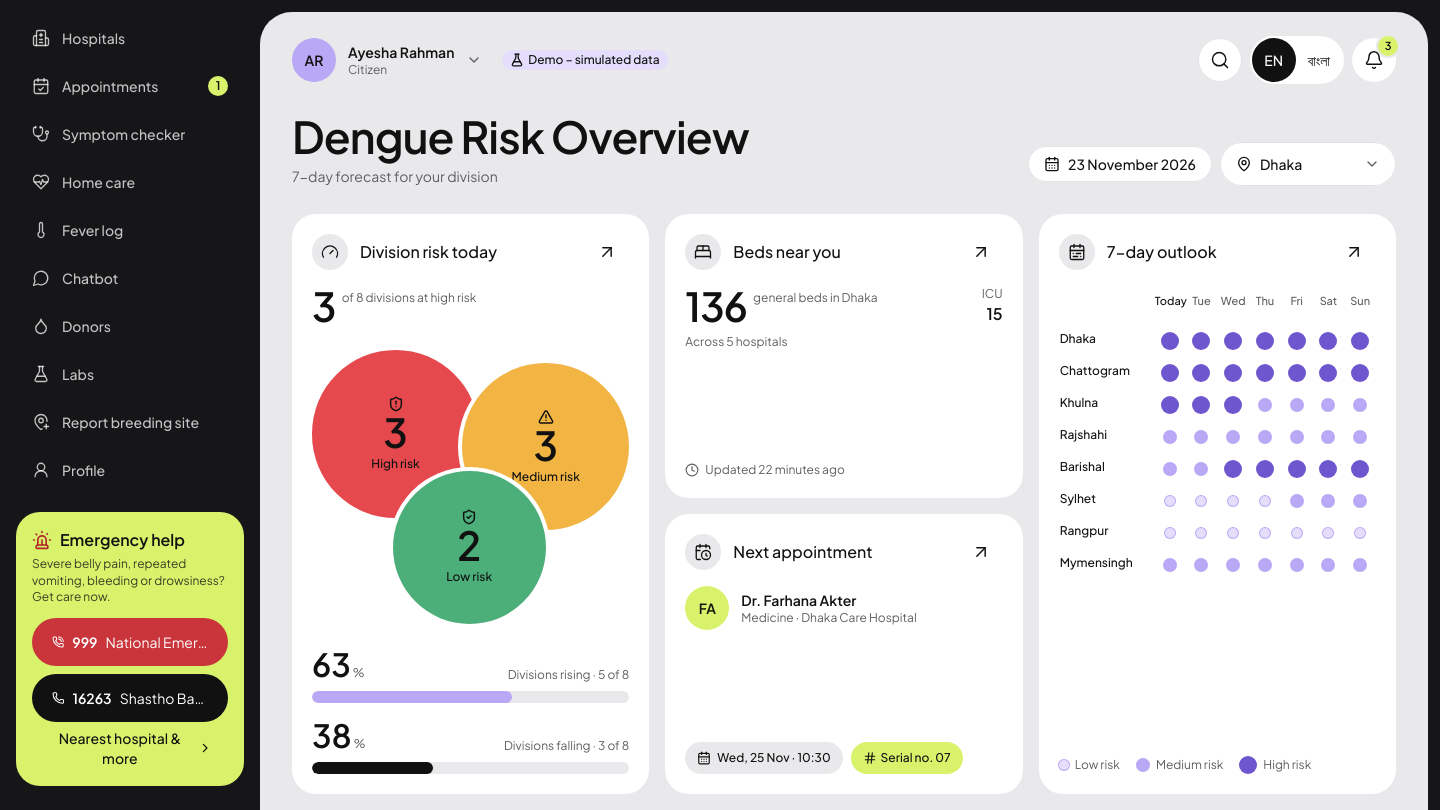
Test case: Emergency sheet › opens from the sidebar card on desktop and closes with Escape, restoring focus
(page scrolled)
Click the button "Nearest hospital & more": (130, 748) [32,726,228,770]
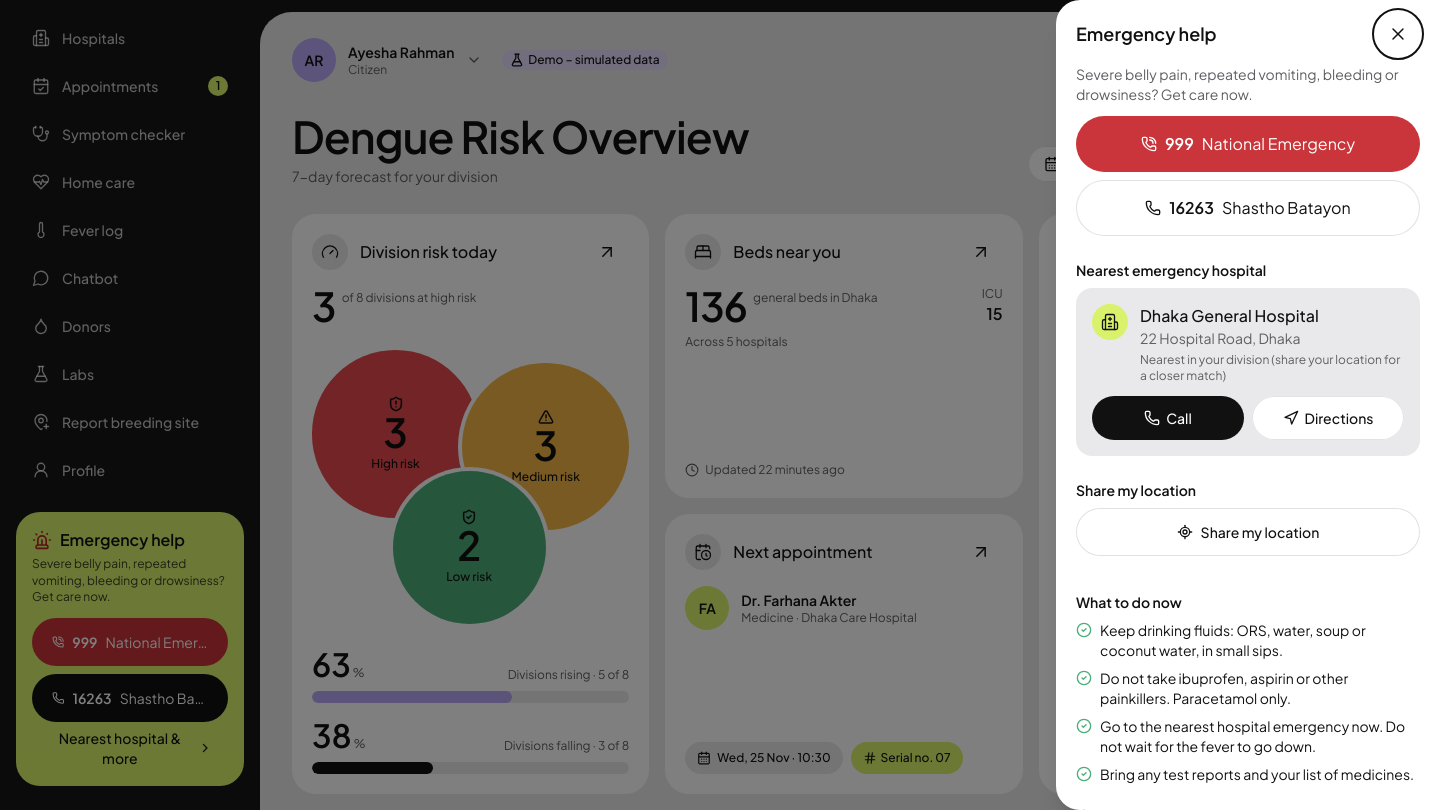
Expected: the dialog "Emergency help" is shown, [1056,0,1439,809]
Press Escape
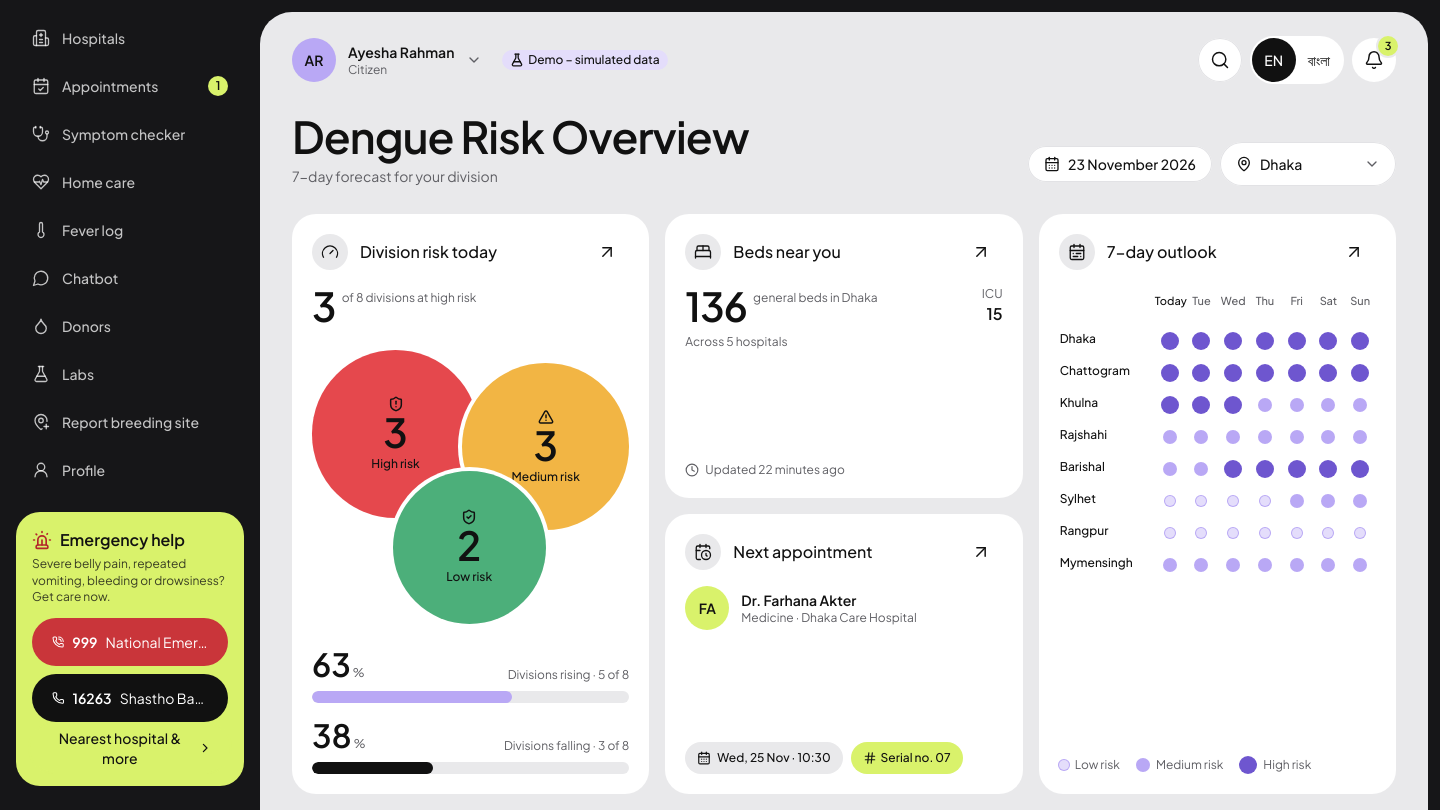
Expected: the dialog is gone
